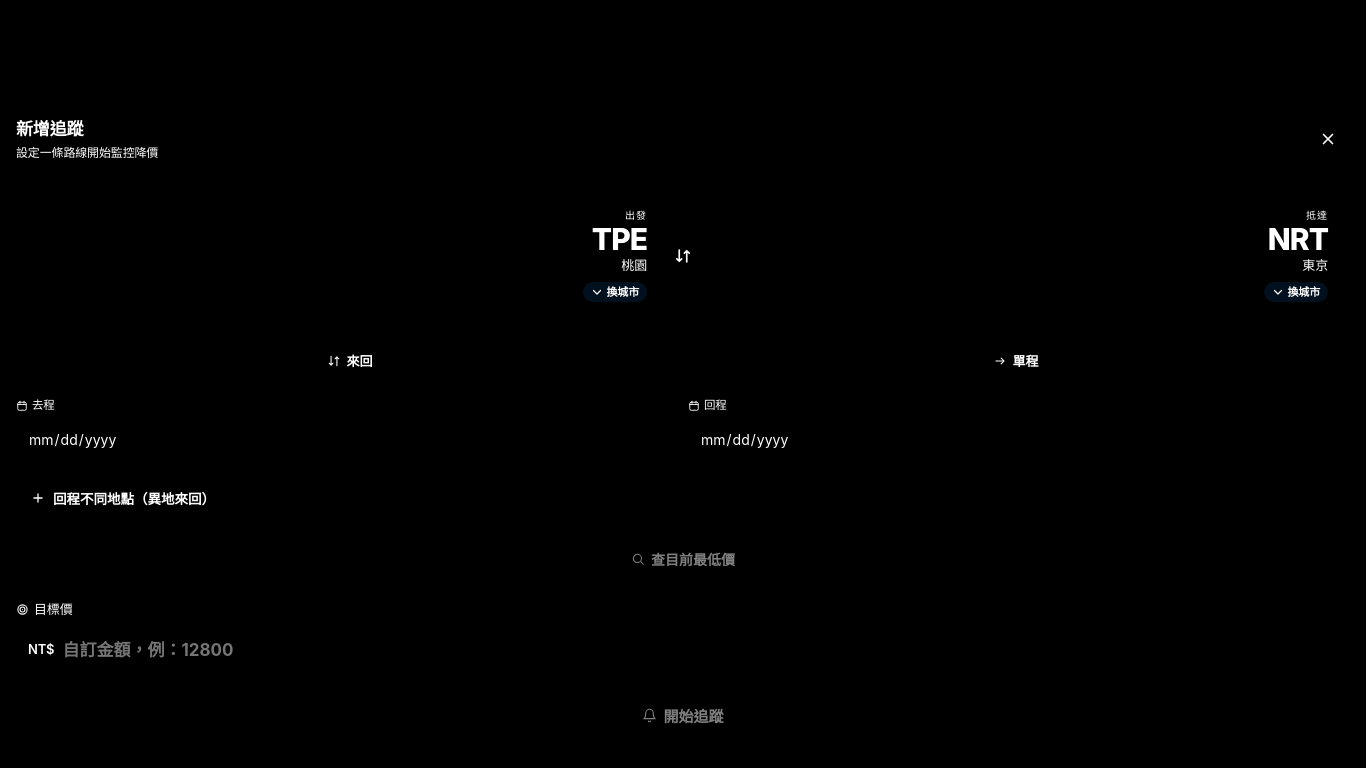
Scenario: AddWatchSheet — 開口式來回（0015） › 單程時不顯示「回程不同地點」開關
Click the button "單程": (1016, 361) [686,342,1346,379]
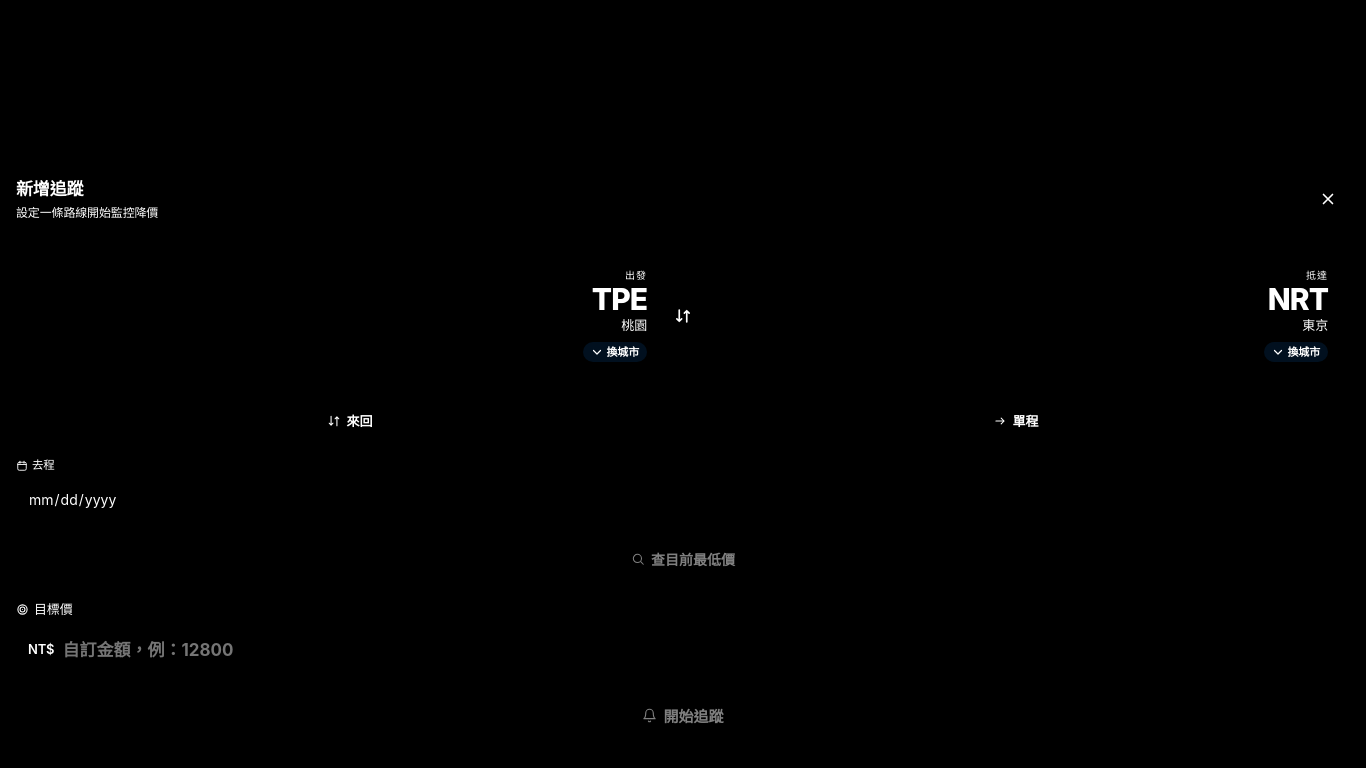
expect the button with test id "openjaw-toggle" is gone: met
